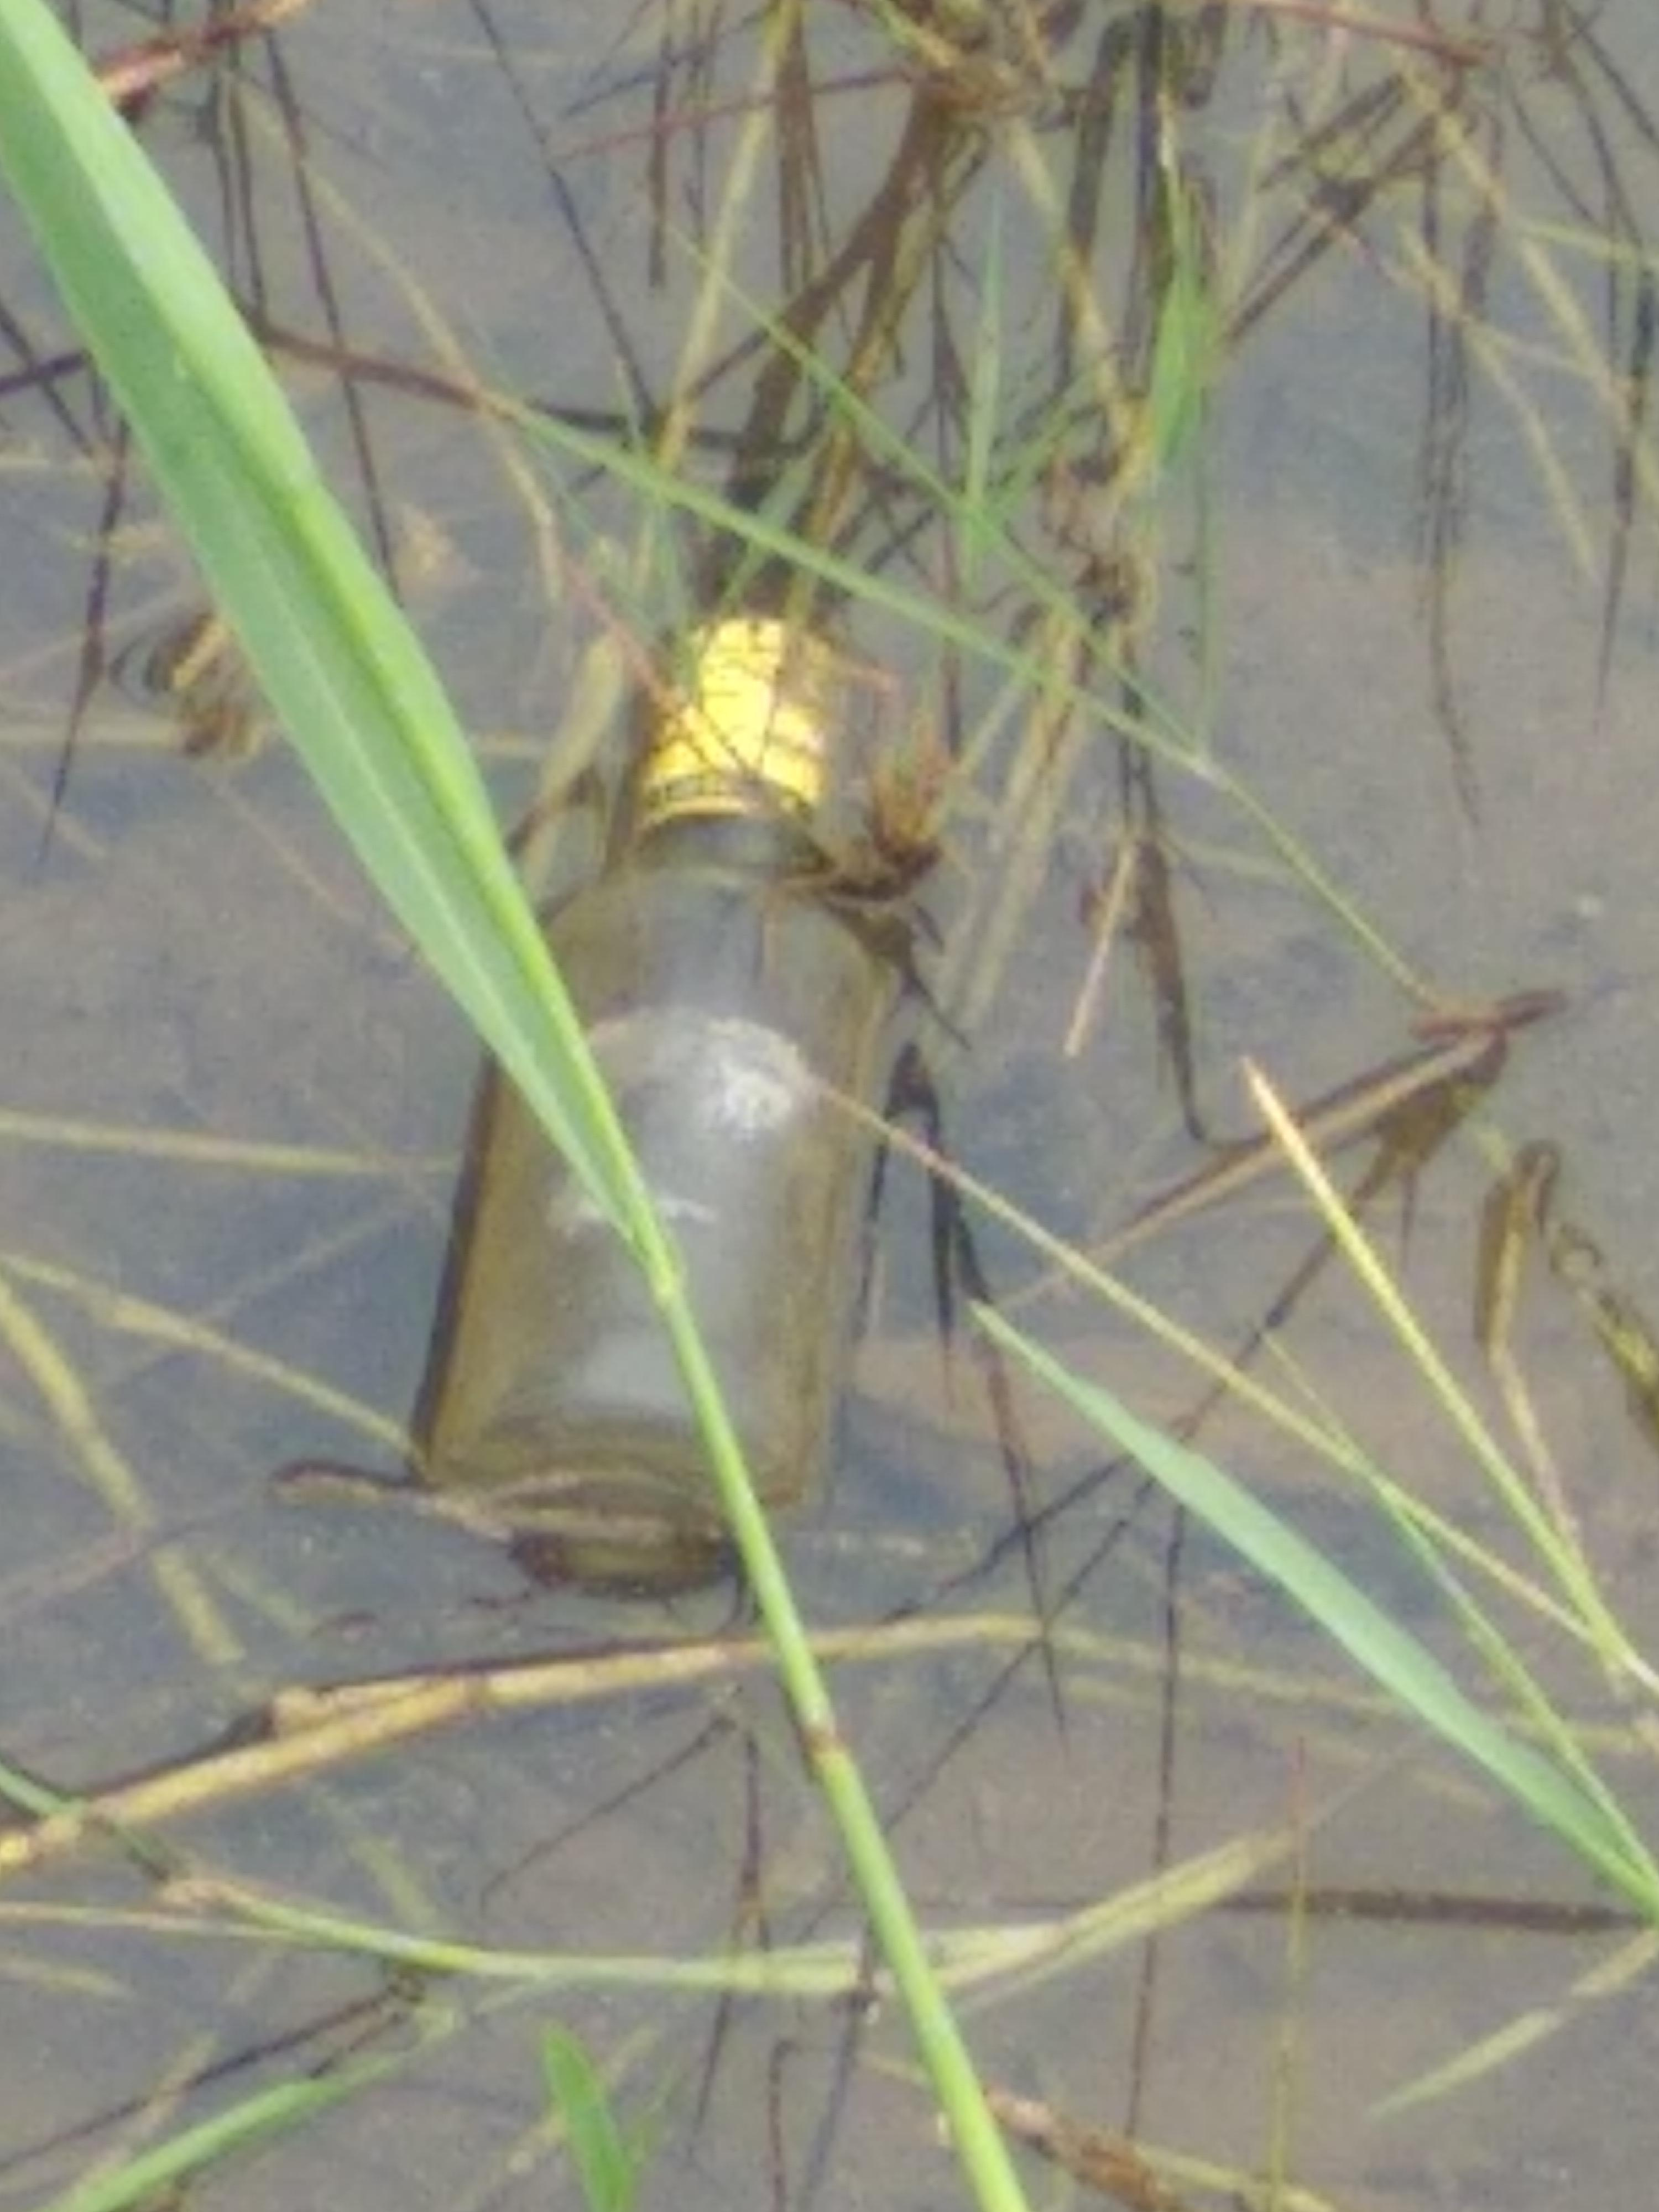trash: (392, 592, 927, 1583)
